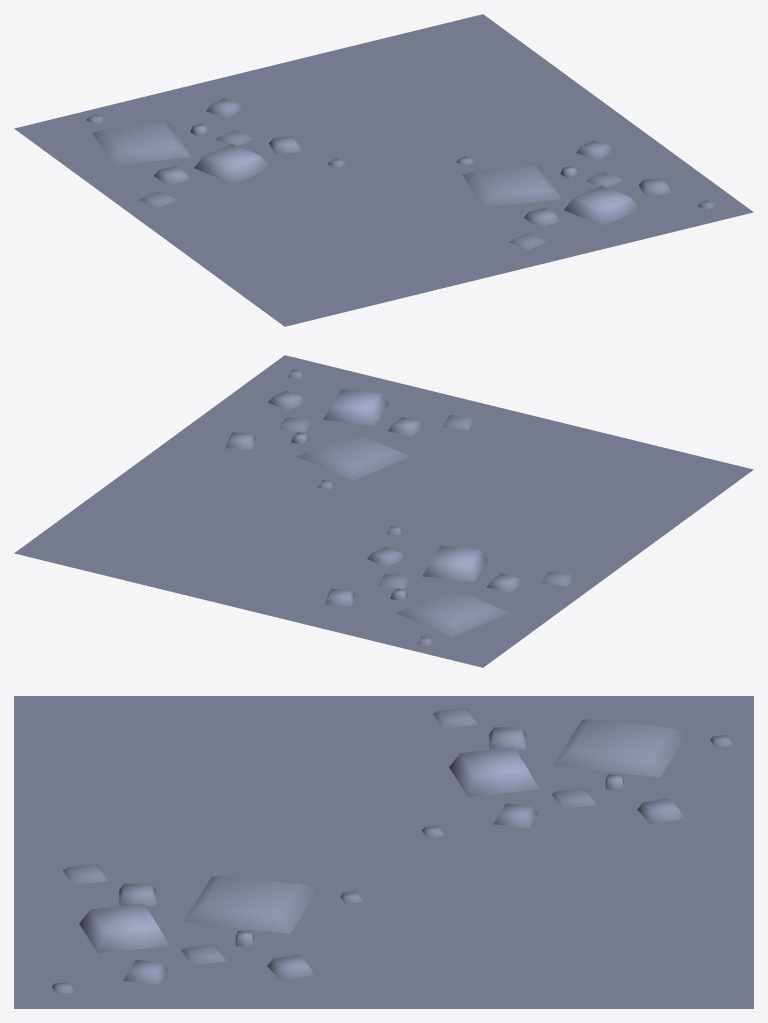
Rendered from Tile_0.glb.
The picture shows the model from 3 angles, top to bottom: view 1: azimuth 30°, elevation 25°; view 2: azimuth 150°, elevation 25°; view 3: azimuth 270°, elevation 25°; orthographic projection. The views are drawn at different scales.
Parts seen in each view (by area): view 1: tile_0; view 2: tile_0; view 3: tile_0.
Part boxes in pixels (x1=…): tile_0: x1=14, y1=14, x2=753, y2=326; tile_0: x1=14, y1=355, x2=753, y2=667; tile_0: x1=14, y1=696, x2=753, y2=1008.
Bounding box in the file's own units: 2 × 0.05 × 2.
Materials: 4 (4 with a texture image).
